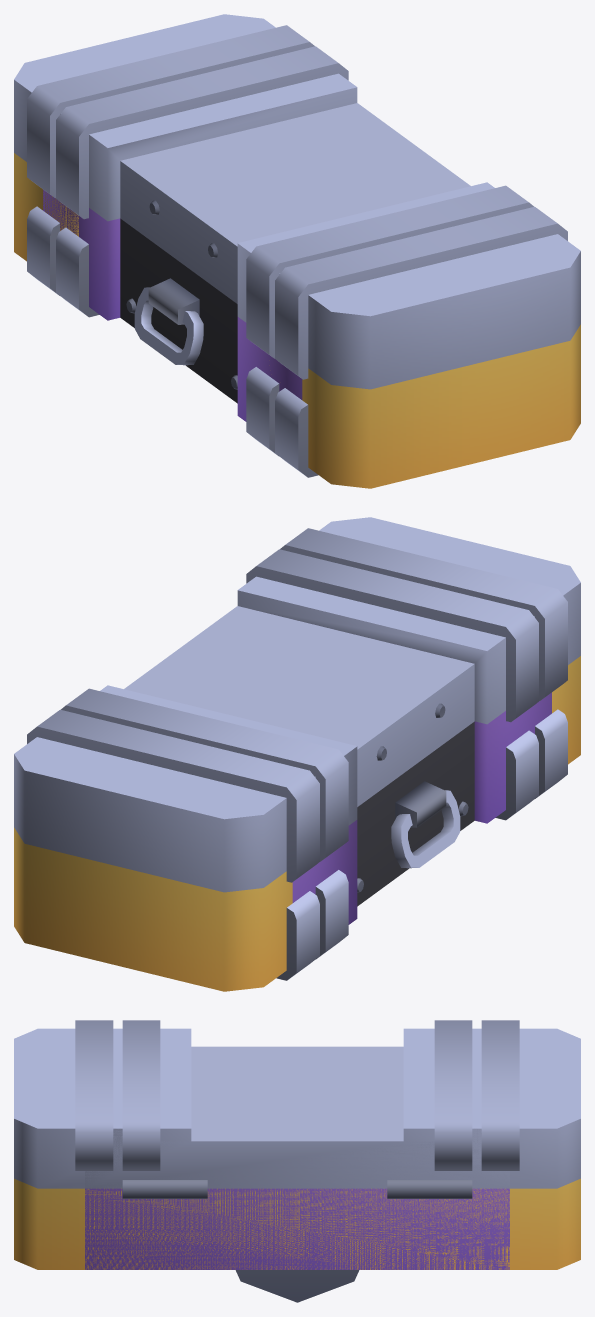
File: blk.glb
3 renders of one model, top to bottom at view 1: azimuth 30°, elevation 25°; view 2: azimuth 150°, elevation 25°; view 3: azimuth 270°, elevation 25°, orthographic. The views are drawn at different scales.
Parts seen in each view (by area): view 1: lid (×2), crate-wide, crate-medium; view 2: lid (×2), crate-wide, crate-medium; view 3: lid (×2), crate-medium, crate-wide, target-large.
Boxes of the visible parts, left/top/right/bottom form: lid (×2): left=14, top=14, right=580, bottom=389; crate-wide: left=14, top=153, right=580, bottom=488; crate-medium: left=43, top=189, right=302, bottom=456; lid (×2): left=14, top=517, right=580, bottom=892; crate-wide: left=14, top=656, right=580, bottom=991; crate-medium: left=292, top=692, right=551, bottom=959; lid (×2): left=14, top=1020, right=580, bottom=1188; crate-medium: left=85, top=1180, right=509, bottom=1269; crate-wide: left=14, top=1178, right=580, bottom=1269; target-large: left=235, top=1270, right=359, bottom=1302.
Bounding box in the file's own units: 0.5495 × 0.52 × 1.2.
Materials: 1 (1 with a texture image).
